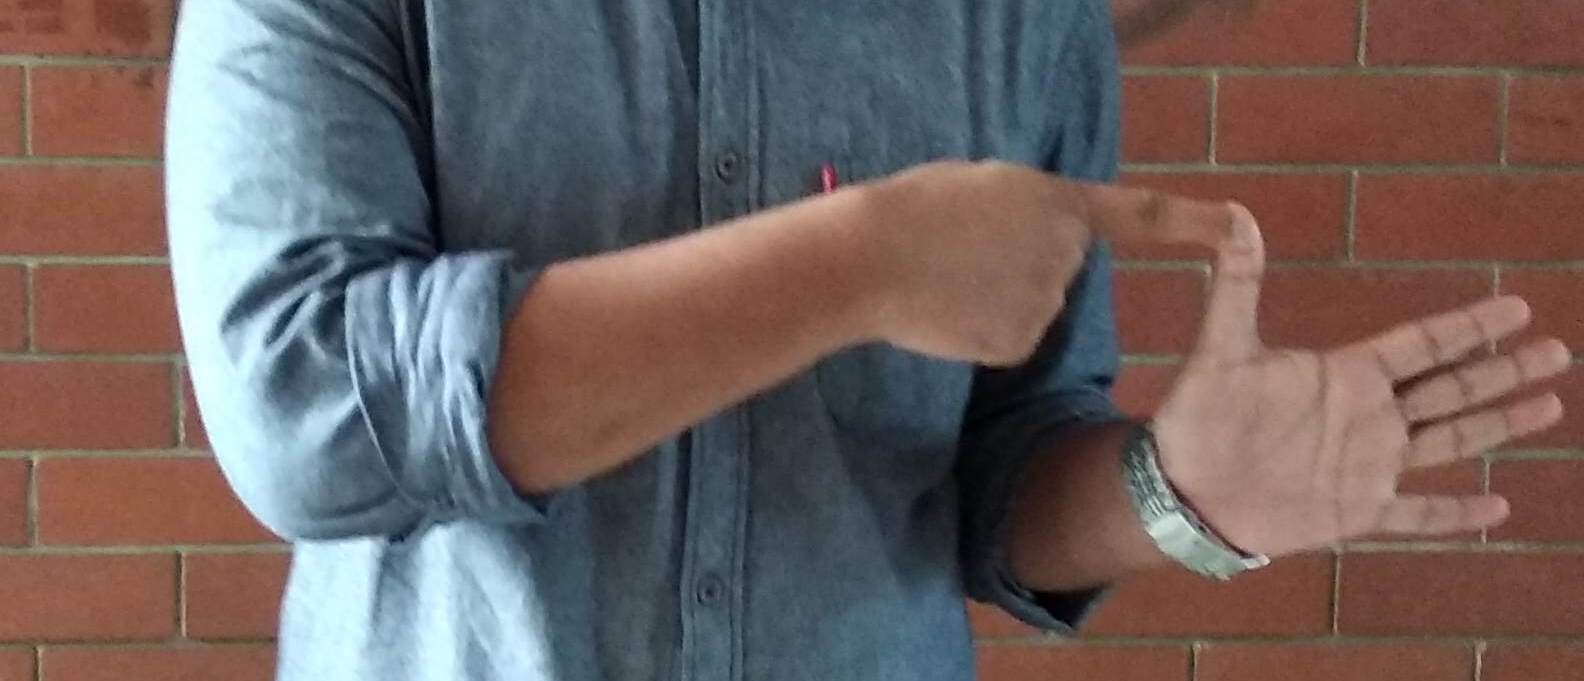a: (925, 148, 1568, 604)
